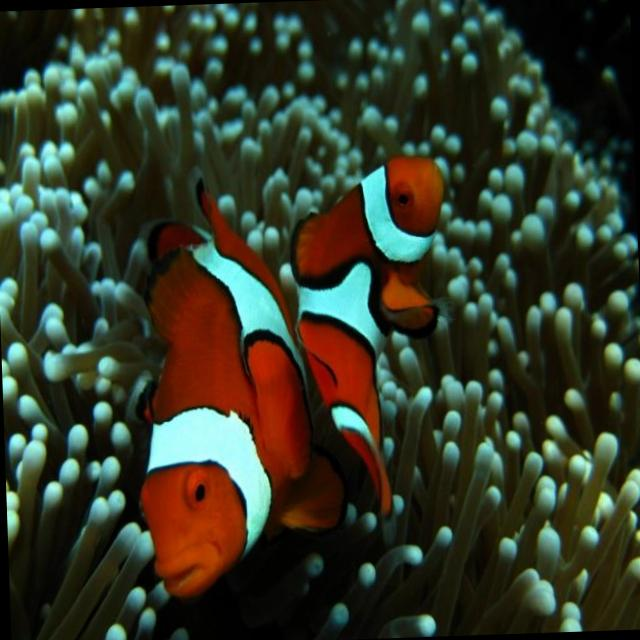ClownFish: (130, 179, 318, 609), (285, 152, 459, 518)
